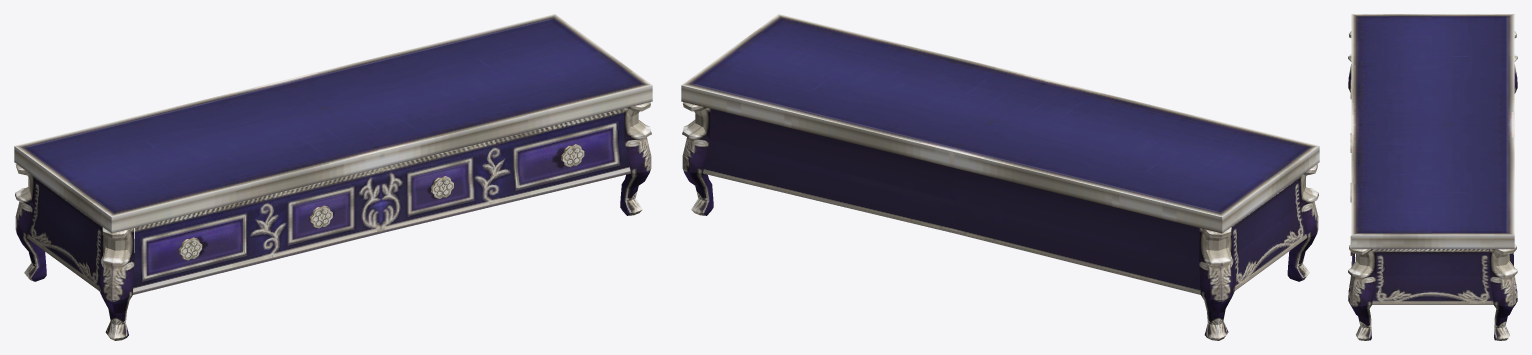
File: furni_0201108.FBX
3 views of the same model, side by side, from view 1: azimuth 30°, elevation 25°; view 2: azimuth 150°, elevation 25°; view 3: azimuth 270°, elevation 25° (orthographic). The views are drawn at different scales.
Parts seen in each view (by area): view 1: furni_0201108; view 2: furni_0201108; view 3: furni_0201108.
Boxes of the visible parts, x1=… form: furni_0201108: x1=14, y1=14, x2=652, y2=340; furni_0201108: x1=681, y1=14, x2=1319, y2=340; furni_0201108: x1=1348, y1=14, x2=1517, y2=340.
Size of the model in its own units: 223 by 50.32 by 71.33.
1 material, 1 textured.
